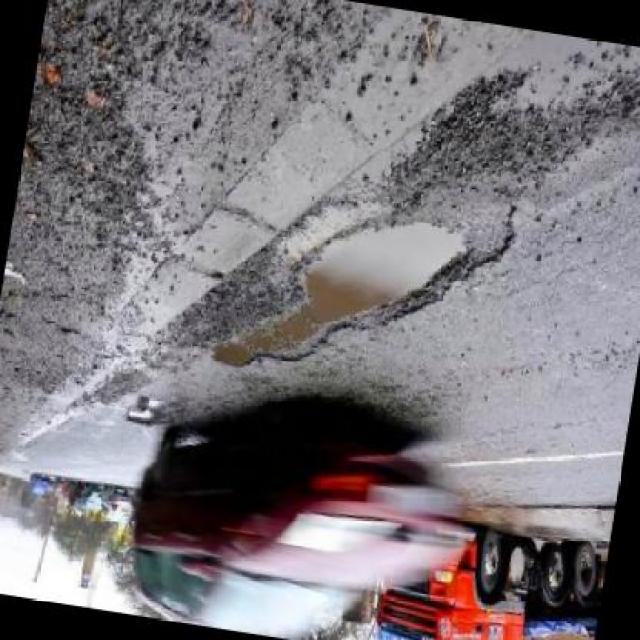pothole1: (202, 188, 482, 410), (121, 395, 165, 434)
